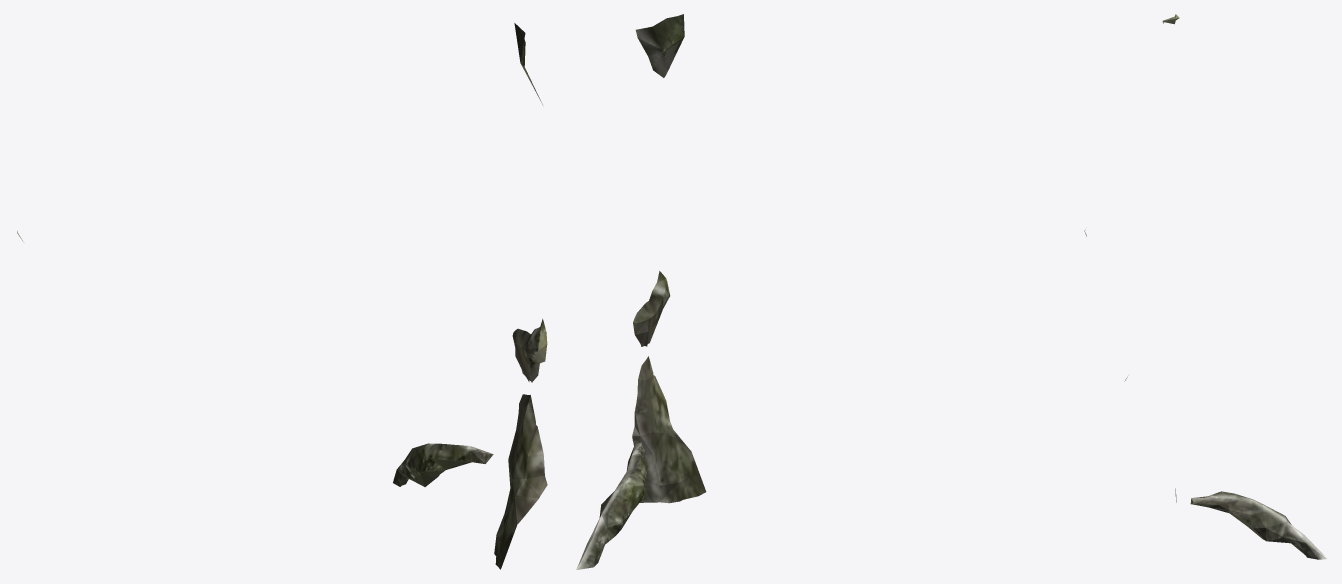
The picture shows the model from 3 angles, left to right: view 1: azimuth 30°, elevation 25°; view 2: azimuth 150°, elevation 25°; view 3: azimuth 270°, elevation 25°; orthographic projection. The views are drawn at different scales.
Bounding box in the file's own units: 2.95 × 2.95 × 1.27.
Materials: 1 (1 with a texture image).
